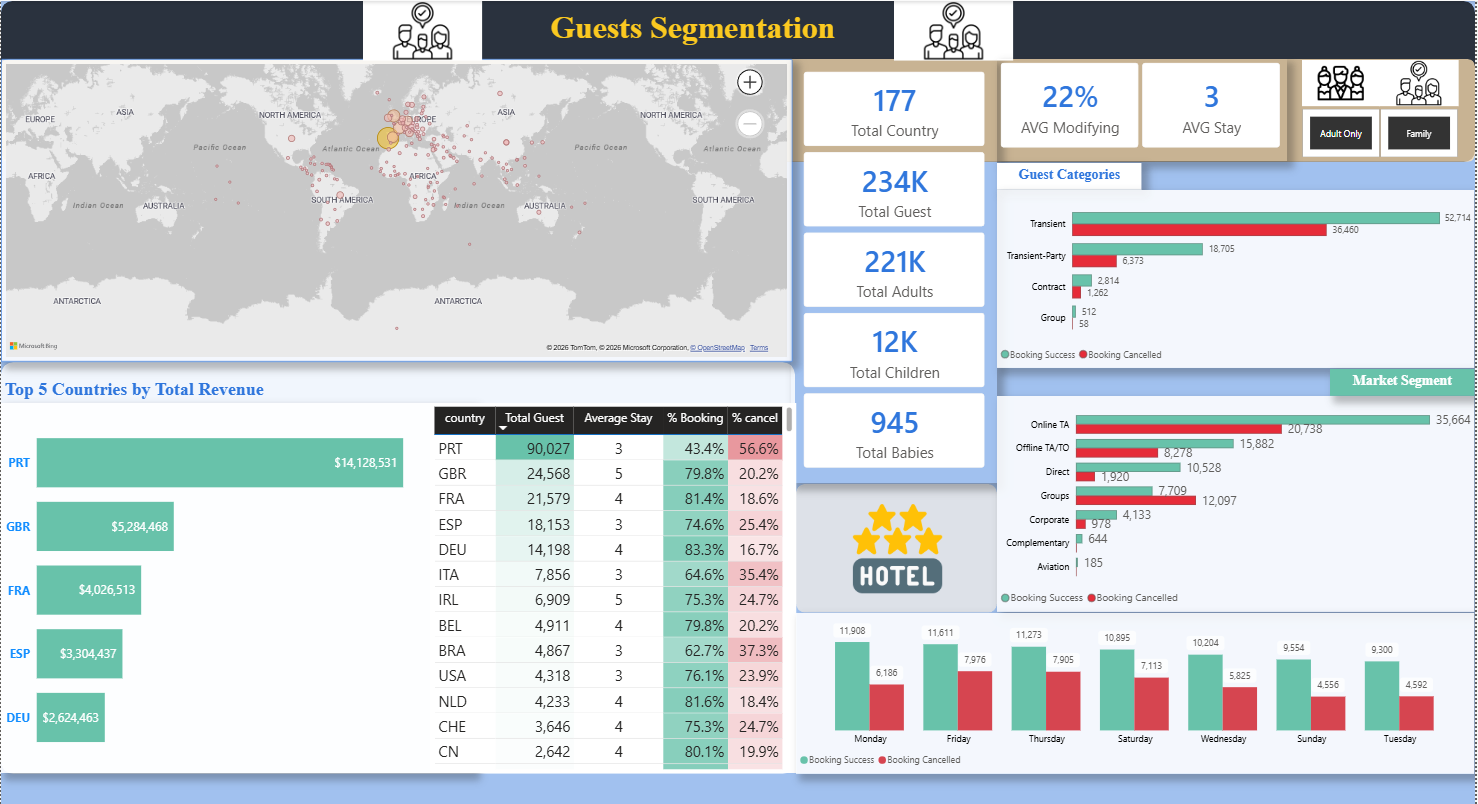

This screenshot's page, from the dashboard's own definition file:
{"tool":"powerbi","page":{"name":"Guest Segmentation","canvas":[1980,1080],"ordinal":1},"visuals":[{"type":"shape","box":[1068.6,648.6,270,172.9],"z":0},{"type":"shape","box":[0,484.9,1066.6,553.4],"z":1000},{"type":"shape","box":[0,0,1980,216.3],"z":2000},{"type":"shape","box":[0,77.9,1980,138.4],"z":3000},{"type":"map","fields":{"Category":["hotel_cleaned.country"],"Size":["Measure.Total Guest"]},"box":[0,77.9,1062.5,407],"z":4000},{"type":"cardVisual","fields":{"Data":["Count(hotel_cleaned.country)","Measure.Total Guest","Sum(hotel_cleaned.adults)","Sum(hotel_cleaned.children)","Sum(hotel_cleaned.babies)"]},"box":[1061.4,78.6,277.1,570],"z":5000},{"type":"barChart","fields":{"Category":["hotel_cleaned.country"],"Y":["Measure.Top 5 Countries Revenue"]},"box":[0,540,634,497],"z":6000},{"type":"textbox","box":[647.1,5.7,552.9,67.1],"z":7000},{"type":"image","box":[486.7,0,160,80],"z":8000},{"type":"image","box":[1200,0,160,80],"z":9000},{"type":"slicer","fields":{"Values":["hotel_cleaned.Guest Type"]},"box":[1727,139,247.7,77.7],"z":10000},{"type":"image","box":[1851,78.7,106.9,61.5],"z":11000},{"type":"image","box":[1747.2,78.7,103.8,61.5],"z":12000},{"type":"cardVisual","fields":{"Data":["Avg(hotel_cleaned.booking_changes)","Avg(hotel_cleaned.Stay_Nights)"]},"box":[1338.6,78.6,388.6,137.1],"z":13000},{"type":"tableEx","fields":{"Values":["hotel_cleaned.country","Measure.Total Guest","Avg(hotel_cleaned.Stay_Nights)","Measure.% Booking","Measure.% cancel"]},"box":[576.3,540,491.6,497],"z":14000},{"type":"textbox","box":[0,504.3,647.1,38.6],"z":15000},{"type":"textbox","box":[1338.6,217.1,194.3,35.7],"z":16000},{"type":"clusteredBarChart","fields":{"Category":["hotel_cleaned.customer_type"],"Y":["Measure.Booking Success","Measure.Booking Cancelled"]},"box":[1338.6,254.3,641.4,238.6],"z":17000},{"type":"clusteredBarChart","fields":{"Y":["Measure.Booking Success","Measure.Booking Cancelled"],"Category":["hotel_cleaned.market_segment"]},"box":[1338.6,530,641.4,290],"z":18000},{"type":"textbox","box":[1785.7,494.3,194.3,35.7],"z":19000},{"type":"lineClusteredColumnComboChart","fields":{"Category":["hotel_cleaned.Arrival_Weekday"],"Y":["Measure.Booking Success","Measure.Booking Cancelled"]},"box":[1068.6,821.4,911.4,215.7],"z":20000},{"type":"image","box":[1124.3,675.7,160,120],"z":21000}]}

Visuals, with their boxes in screenshot pixels (x1, y1, x2, y2), scaled from the page's 1980x1080 canvas onto the 1478x804 screenshot:
shape: <bbox>798, 483, 999, 612</bbox>
shape: <bbox>0, 361, 796, 773</bbox>
shape: <bbox>0, 0, 1477, 161</bbox>
shape: <bbox>0, 58, 1477, 161</bbox>
map - hotel_cleaned.country x Measure.Total Guest: <bbox>0, 58, 793, 361</bbox>
cardVisual - Count(hotel_cleaned.country) x Measure.Total Guest: <bbox>792, 59, 999, 483</bbox>
barChart - hotel_cleaned.country x Measure.Top 5 Countries Revenue: <bbox>0, 402, 473, 772</bbox>
textbox: <bbox>483, 4, 896, 54</bbox>
image: <bbox>363, 0, 483, 60</bbox>
image: <bbox>896, 0, 1015, 60</bbox>
slicer - hotel_cleaned.Guest Type: <bbox>1289, 103, 1474, 161</bbox>
image: <bbox>1382, 59, 1462, 104</bbox>
image: <bbox>1304, 59, 1382, 104</bbox>
cardVisual - Avg(hotel_cleaned.booking_changes) x Avg(hotel_cleaned.Stay_Nights): <bbox>999, 59, 1289, 161</bbox>
tableEx - hotel_cleaned.country x Measure.Total Guest: <bbox>430, 402, 797, 772</bbox>
textbox: <bbox>0, 375, 483, 404</bbox>
textbox: <bbox>999, 162, 1144, 188</bbox>
clusteredBarChart - hotel_cleaned.customer_type x Measure.Booking Success: <bbox>999, 189, 1477, 367</bbox>
clusteredBarChart - Measure.Booking Success x Measure.Booking Cancelled: <bbox>999, 395, 1477, 610</bbox>
textbox: <bbox>1333, 368, 1477, 395</bbox>
lineClusteredColumnComboChart - hotel_cleaned.Arrival_Weekday x Measure.Booking Success: <bbox>798, 611, 1477, 772</bbox>
image: <bbox>839, 503, 959, 592</bbox>
